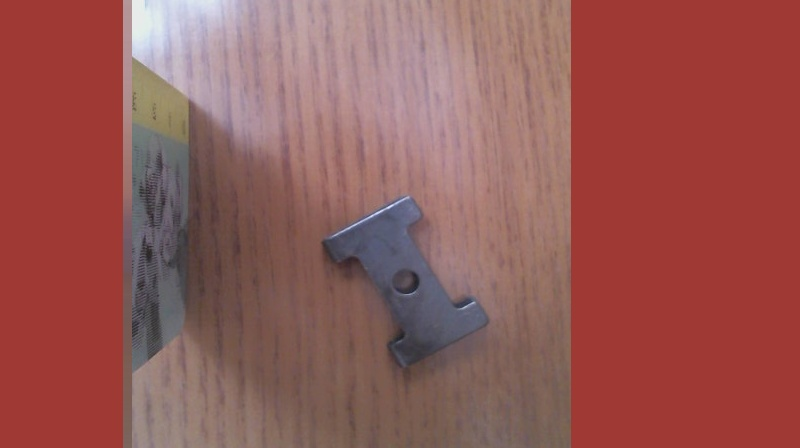O002: (317, 188, 492, 372)
